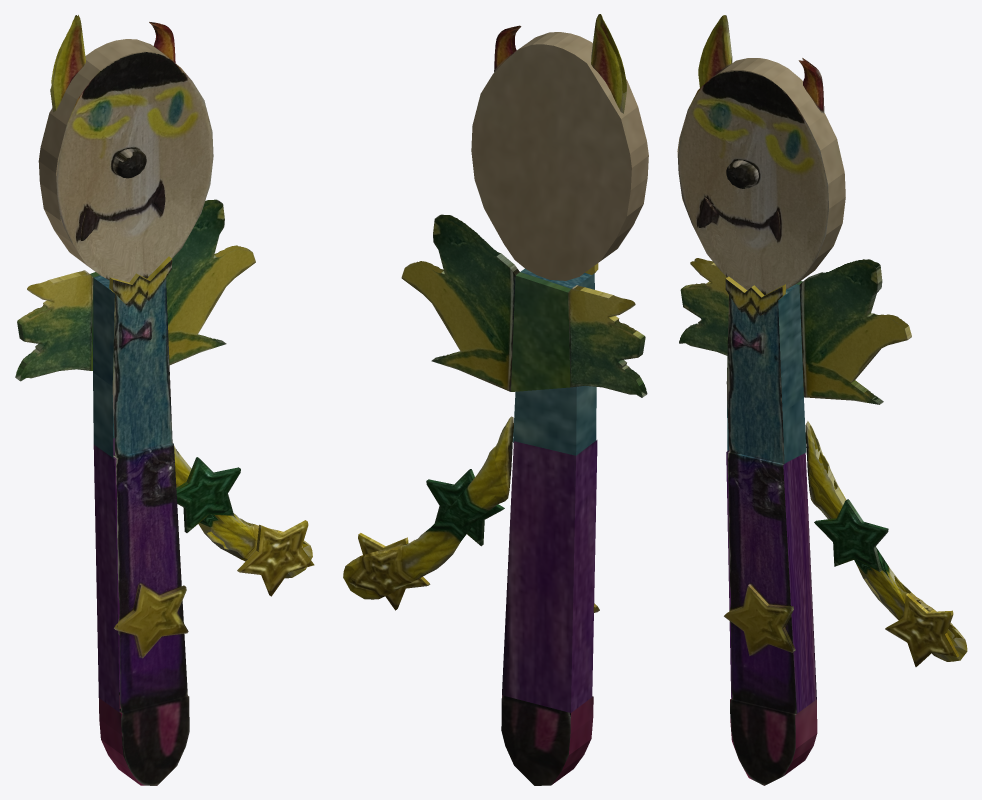
File: personaje_n1.fbx
3 views of the same model, side by side, from view 1: azimuth 30°, elevation 25°; view 2: azimuth 150°, elevation 25°; view 3: azimuth 330°, elevation 25° (orthographic). The views are drawn at different scales.
Visible parts, largest first — view 1: Plane.027; view 2: Plane.027; view 3: Plane.027.
Part boxes in pixels (left/top/right/bottom): Plane.027: left=15, top=15, right=314, bottom=785; Plane.027: left=343, top=14, right=648, bottom=785; Plane.027: left=677, top=15, right=967, bottom=785.
Size of the model in its own units: 76.35 by 190 by 14.87.
1 material, 1 textured.
